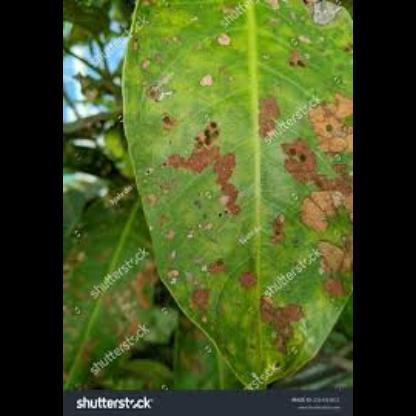agujero: (196, 115, 222, 155), (286, 149, 308, 161), (324, 120, 338, 138), (292, 54, 304, 68), (166, 113, 174, 126)
